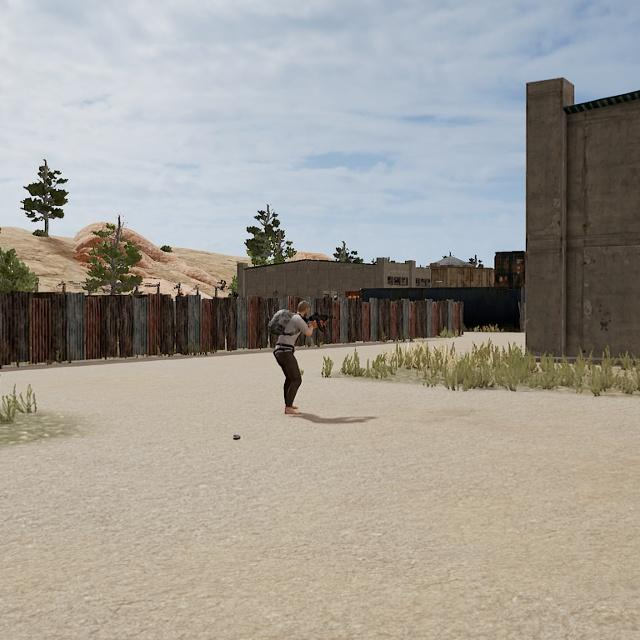head: (292, 296, 315, 322)
people: (260, 294, 324, 422)
